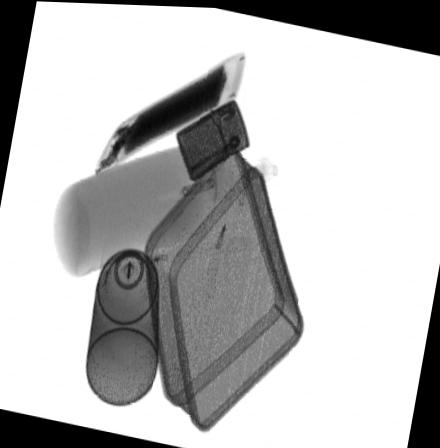Lighter: (174, 96, 250, 183)
Powerbank: (92, 45, 246, 177)
Sprayer: (83, 231, 158, 408)
